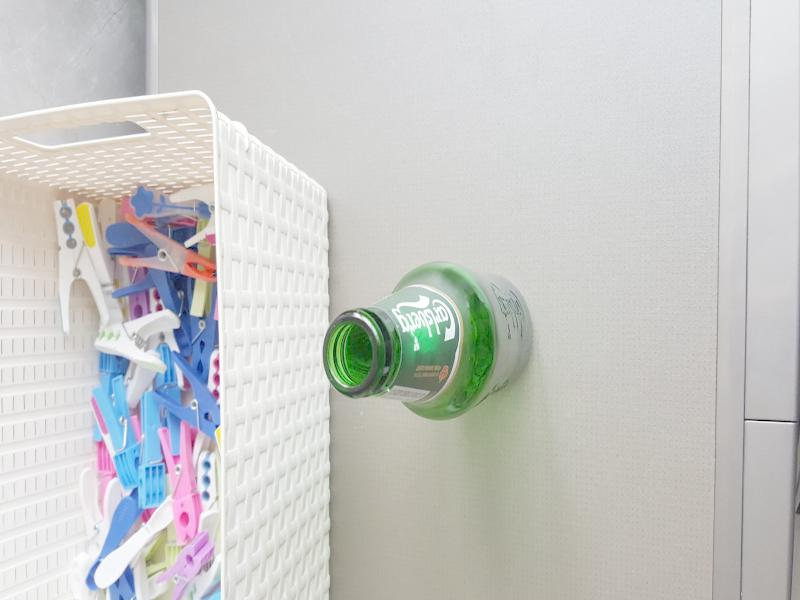Beer: (324, 259, 534, 420)
